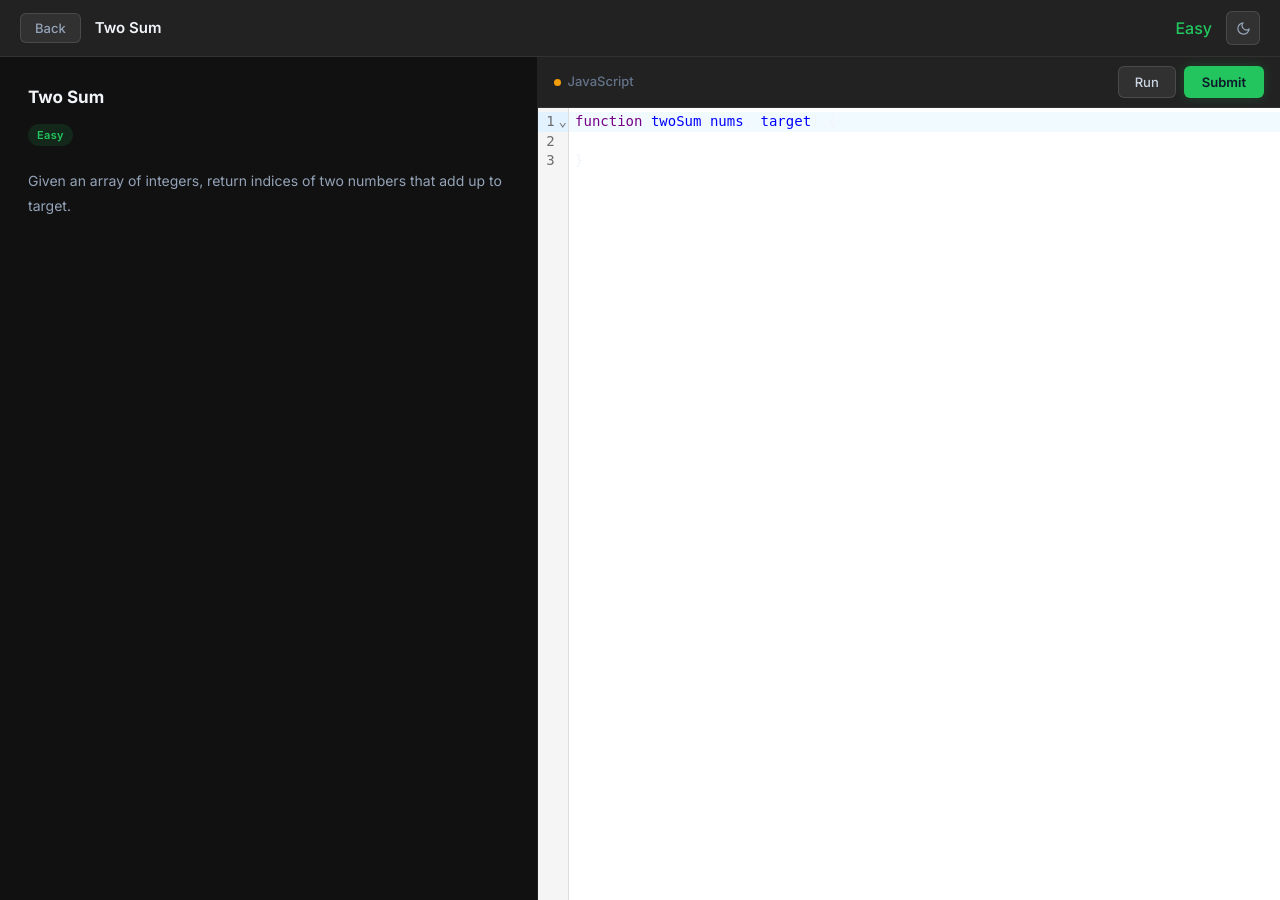
Test: clicking Run shows the test results panel
Click the button "Run" at {"x": 1147, "y": 82}, box x1=1118 y1=66 x2=1176 y2=98
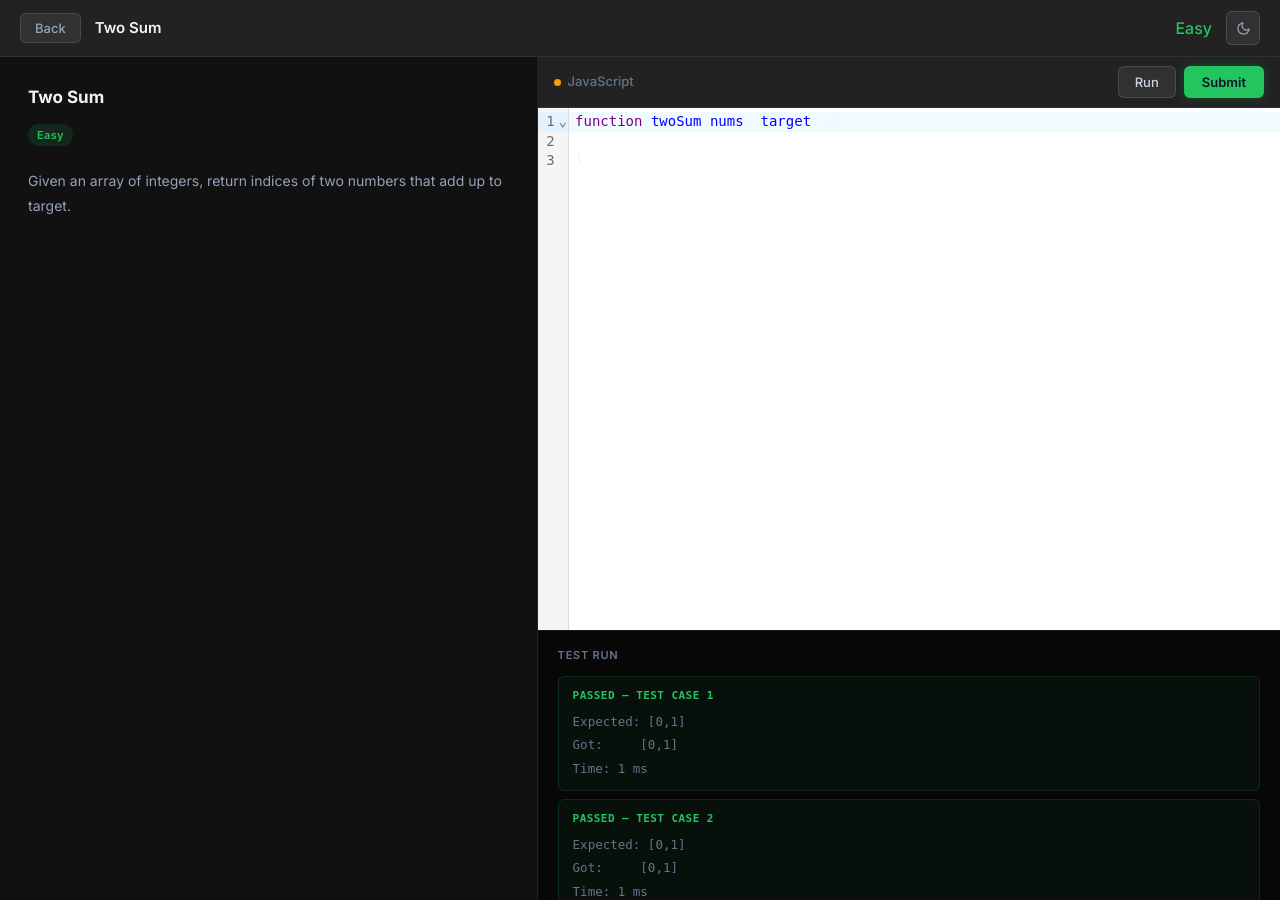
Expected: the heading "Test Run" is shown, x1=558 y1=648 x2=618 y2=662
